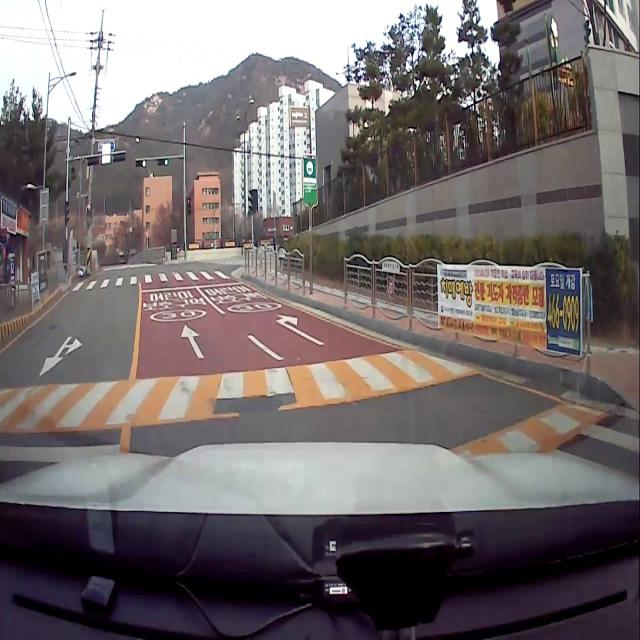Green Light: (142, 159, 146, 168), (164, 158, 168, 167)
